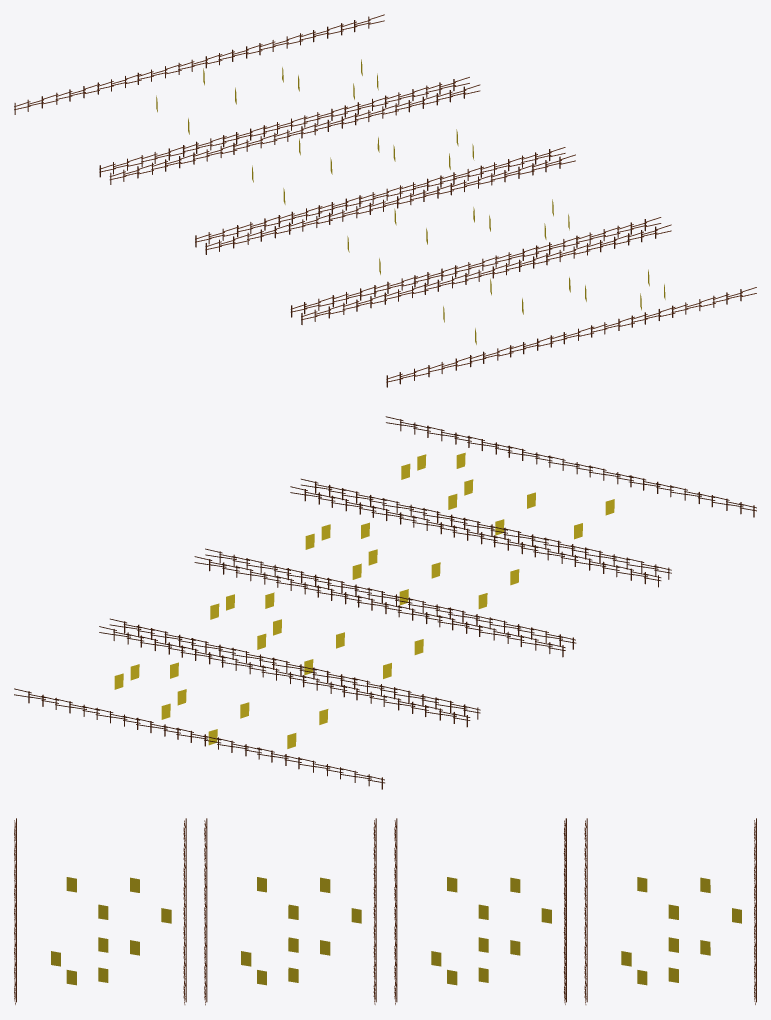
The model's file is farm04.glb.
3 views of the same model, one above another, from view 1: azimuth 30°, elevation 25°; view 2: azimuth 150°, elevation 25°; view 3: azimuth 270°, elevation 25° (orthographic).
Parts seen in each view (by area): view 1: Farm04; view 2: Farm04; view 3: Farm04.
Part boxes in pixels (<box>): Farm04: <box>14,14,756,387</box>; Farm04: <box>14,416,756,789</box>; Farm04: <box>14,818,756,1005</box>.
Bounding box in the file's own units: 17.92 × 0.8765 × 31.26.
